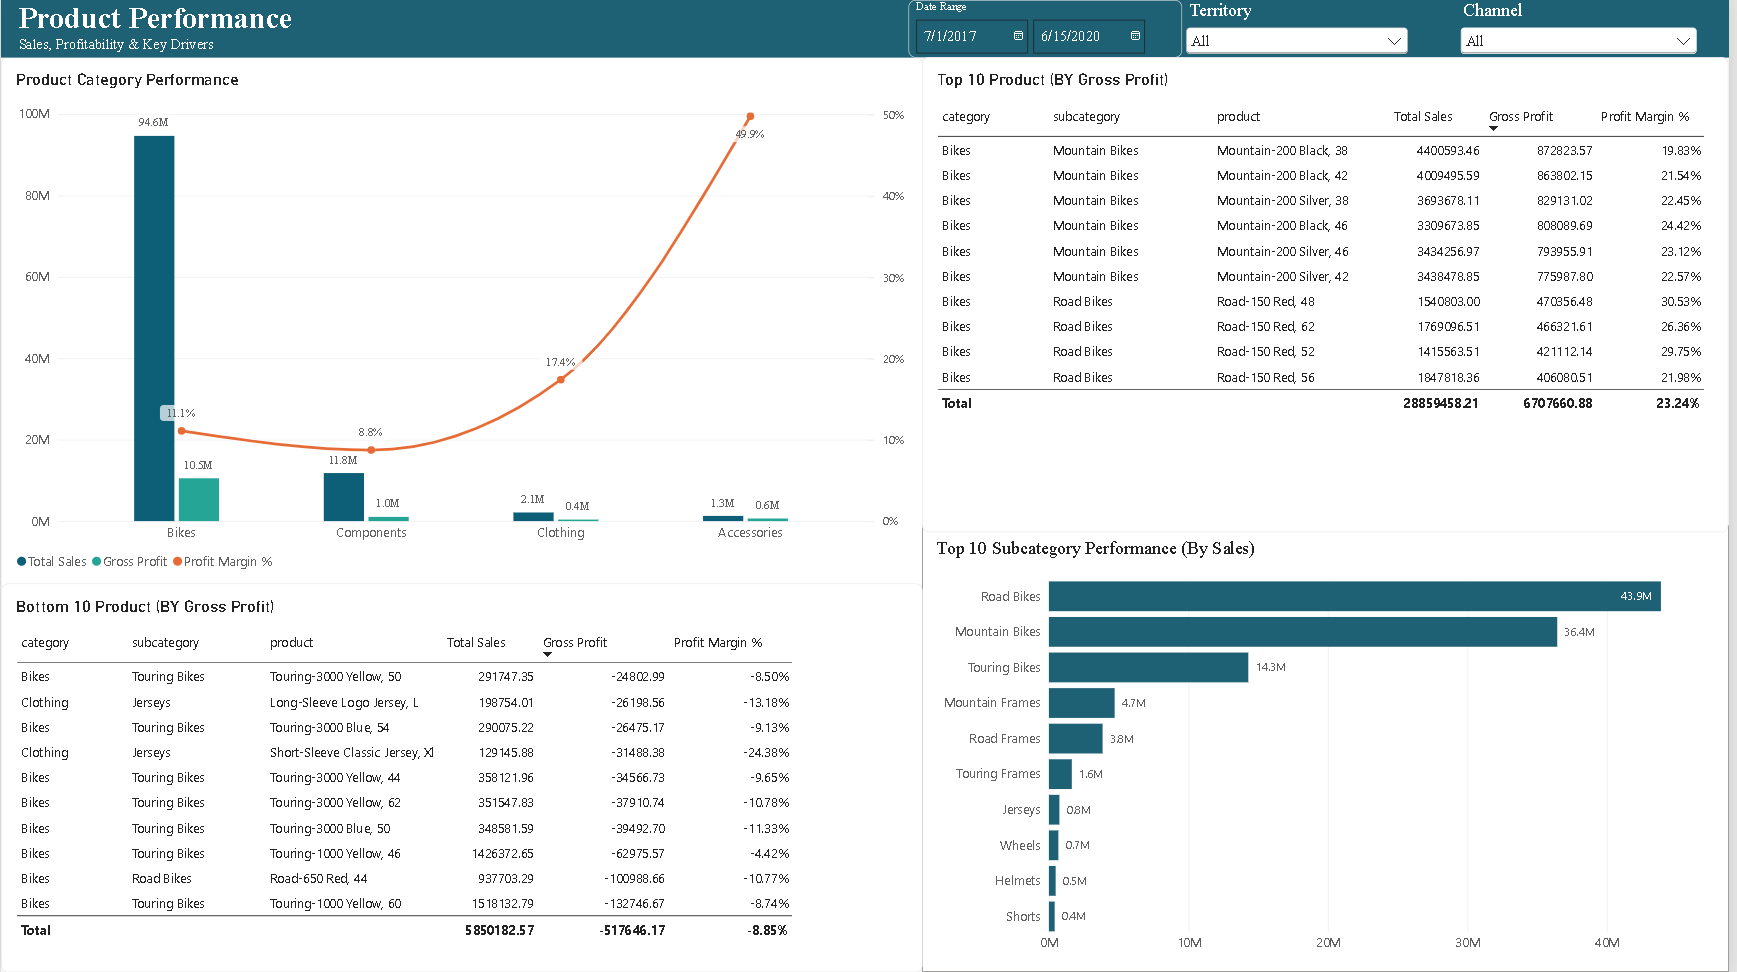

Layout of this report page (visuals, bound fields, positions):
{"tool":"powerbi","page":{"name":"Product Performance","canvas":[1920,1080],"ordinal":1},"visuals":[{"type":"lineClusteredColumnComboChart","title":"Product Category Performance","fields":{"Category":["gold dim_product.category"],"Y":["__measure.Total Sales","__measure.Gross Profit"],"Y2":["__measure.Profit Margin %"]},"box":[0,64,1024,592],"z":0},{"type":"clusteredBarChart","title":"Top 10 Subcategory Performance (By Sales)","fields":{"Category":["gold dim_product.subcategory"],"Y":["__measure.Total Sales"]},"box":[1024,584,896,496],"z":1000},{"type":"shape","title":"Product Performance","box":[0,0,1920,64],"z":2000},{"type":"slicer","fields":{"Values":["gold dim_date.date_val"]},"box":[1008,0,304,64],"z":3000},{"type":"slicer","fields":{"Values":["gold dim_sales_territory.region"]},"box":[1312,0,256,64],"z":4000},{"type":"slicer","fields":{"Values":["gold fact_sales.channel"]},"box":[1616,0,272,64],"z":5000},{"type":"tableEx","title":"Top 10 Product (BY Gross Profit)","fields":{"Values":["gold dim_product.category","gold dim_product.subcategory","gold dim_product.product","__measure.Total Sales","__measure.Gross Profit","__measure.Profit Margin %"]},"box":[1024,64,896,528],"z":6000},{"type":"tableEx","title":"Bottom 10 Product (BY Gross Profit)","fields":{"Values":["gold dim_product.category","gold dim_product.subcategory","gold dim_product.product","__measure.Total Sales","__measure.Gross Profit","__measure.Profit Margin %"]},"box":[0,648,1024,432],"z":7000}]}

Visuals, with their boxes in screenshot pixels (x1, y1, x2, y2), scaled from the page's 1920x1080 canvas onto the 1737x972 screenshot:
"Product Category Performance" lineClusteredColumnComboChart: box=[0, 58, 926, 590]
"Top 10 Subcategory Performance (By Sales)" clusteredBarChart: box=[926, 526, 1736, 971]
"Product Performance" shape: box=[0, 0, 1736, 58]
slicer - gold dim_date.date_val: box=[912, 0, 1187, 58]
slicer - gold dim_sales_territory.region: box=[1187, 0, 1419, 58]
slicer - gold fact_sales.channel: box=[1462, 0, 1708, 58]
"Top 10 Product (BY Gross Profit)" tableEx: box=[926, 58, 1736, 533]
"Bottom 10 Product (BY Gross Profit)" tableEx: box=[0, 583, 926, 971]
